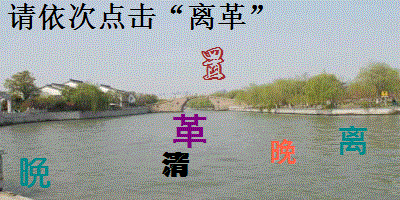text: (170, 111, 210, 150), (18, 154, 53, 190), (336, 125, 369, 157), (199, 46, 227, 82), (160, 150, 191, 178), (269, 138, 297, 166)
